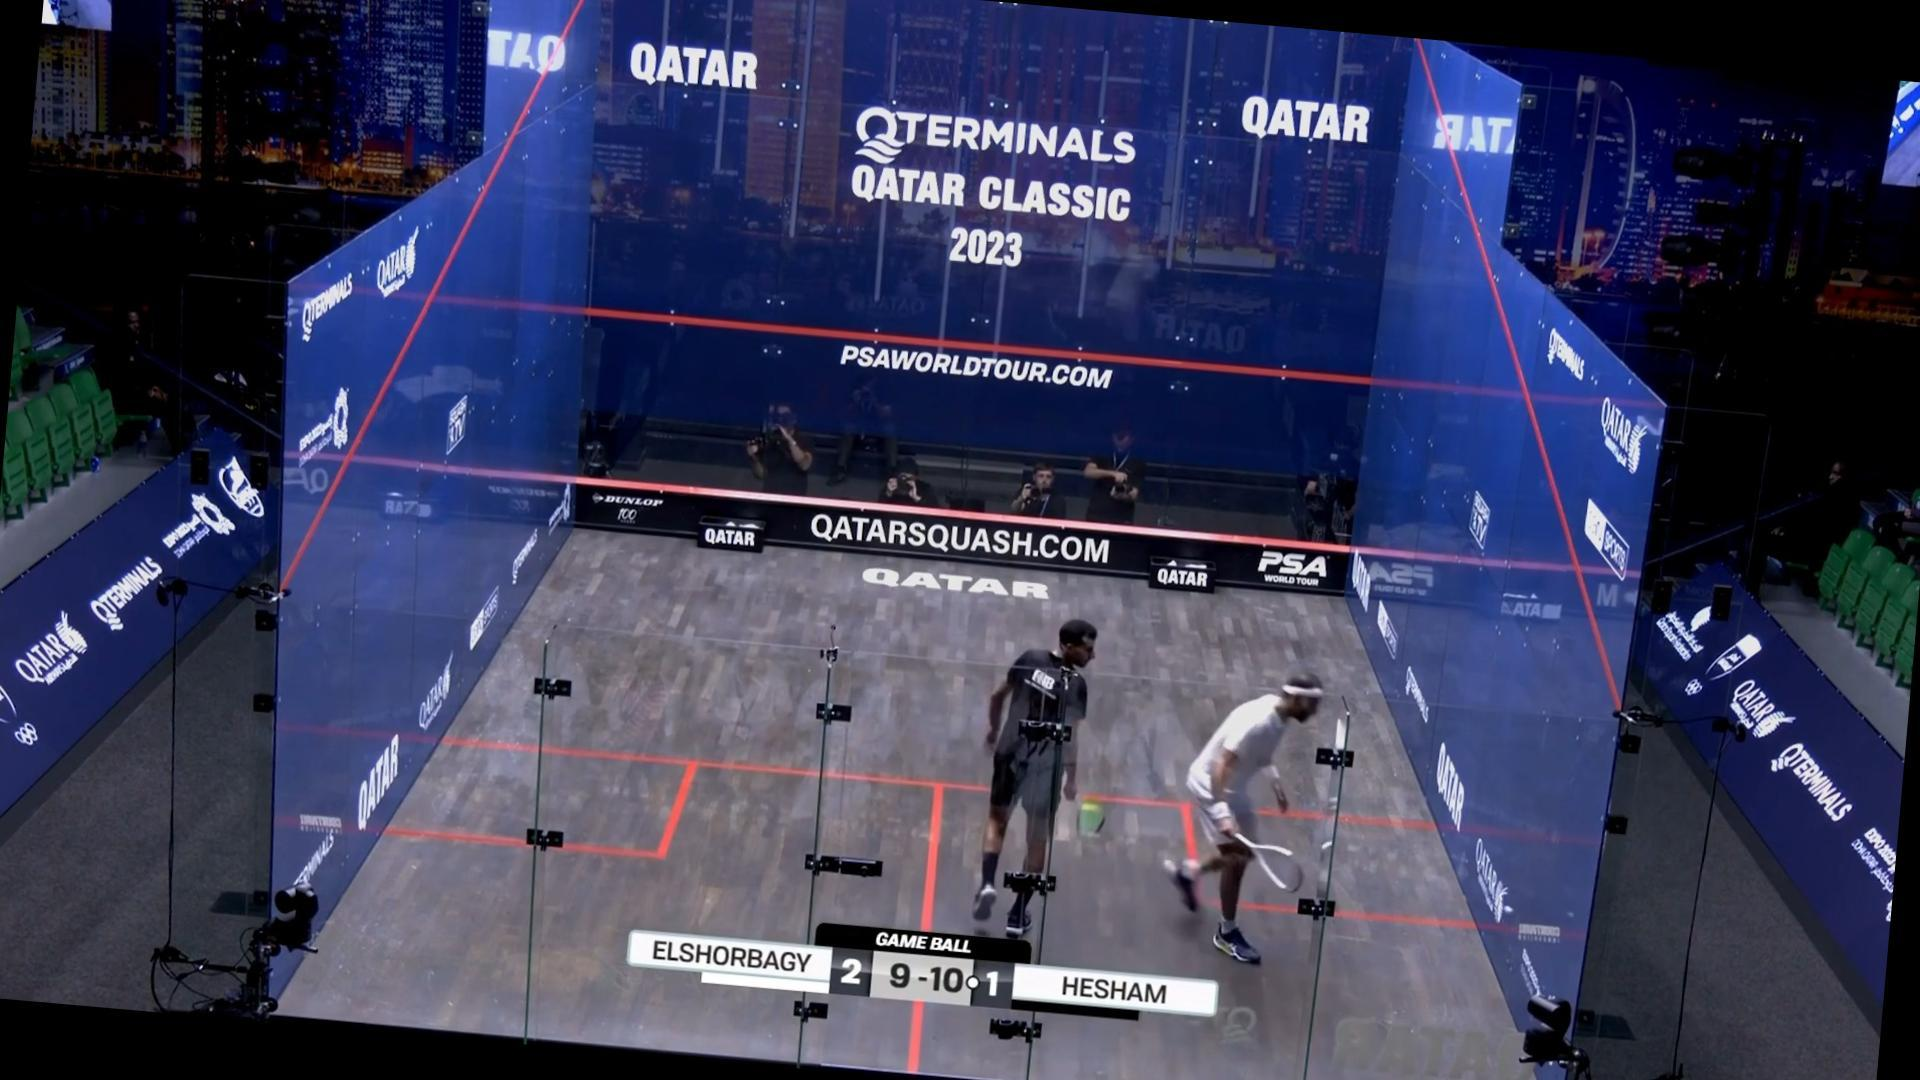Squash-Ball: (1490, 893, 1523, 927)
